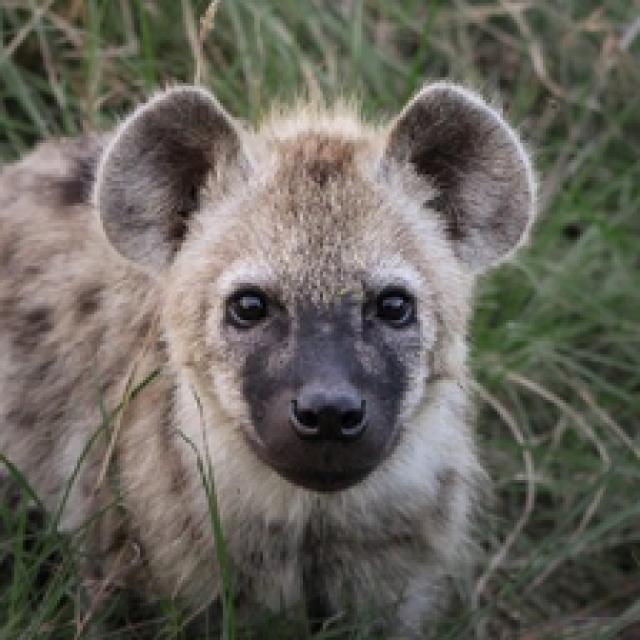hyena: (0, 80, 553, 618)
